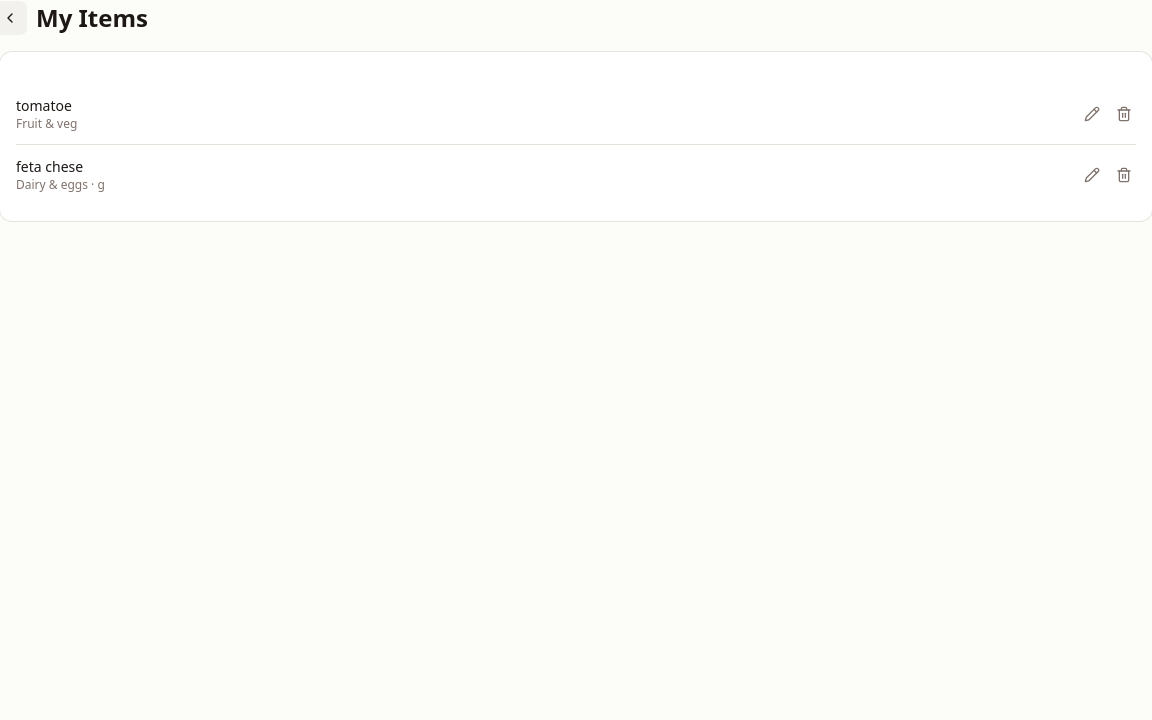
Test: ProductsPage — edit product › pre-fills the edit form with current values
Expected: the text "feta chese" is shown, x1=16 y1=157 x2=83 y2=176
Click the button named "Edit feta chese".
click(1092, 175)  # box x1=1074 y1=157 x2=1110 y2=193
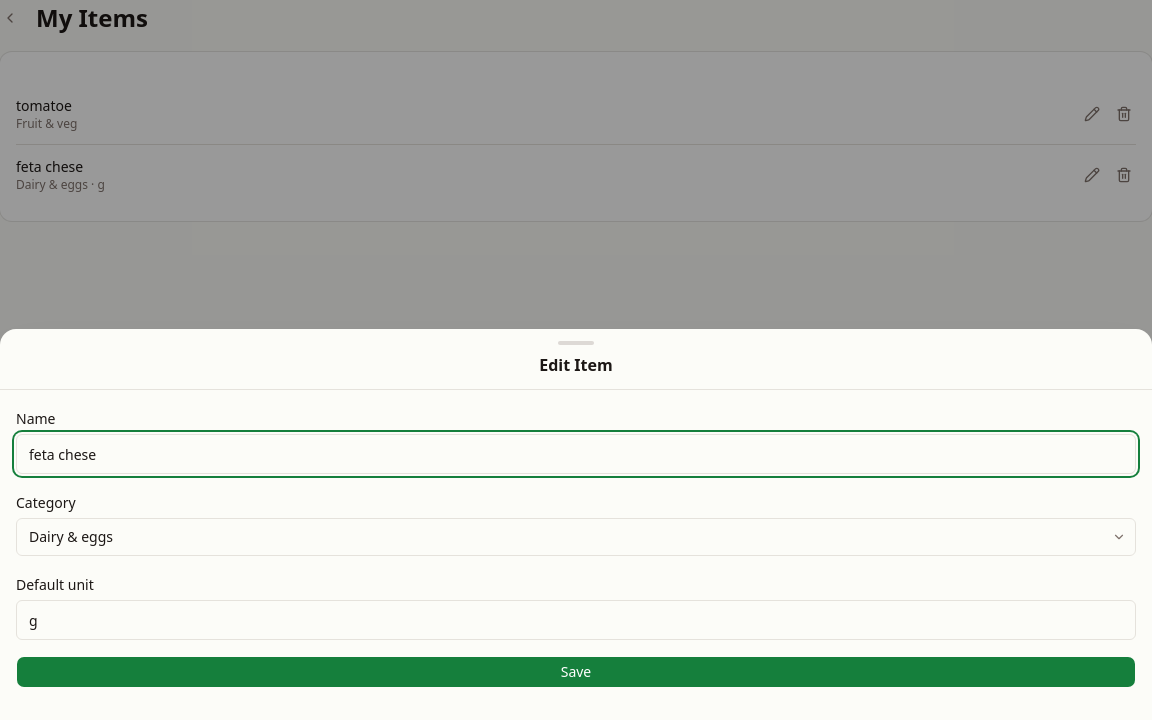
Expected: the field showing "feta chese" below "Name" is shown, x1=16 y1=434 x2=1136 y2=474
Expected: the field showing "g" below "Default unit" is shown, x1=16 y1=600 x2=1136 y2=640
